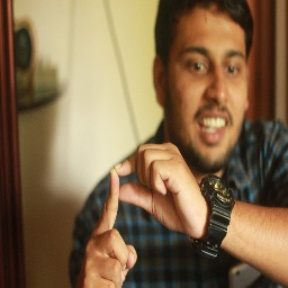P: (85, 136, 188, 277)
